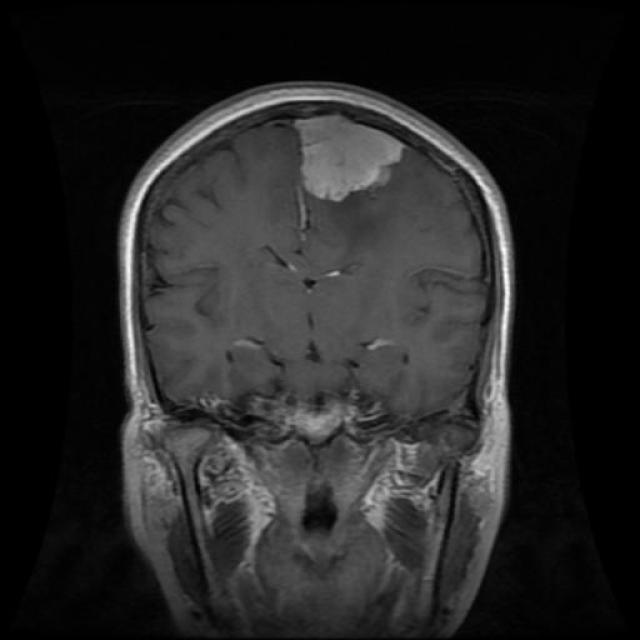meningioma: (296, 116, 402, 204)
